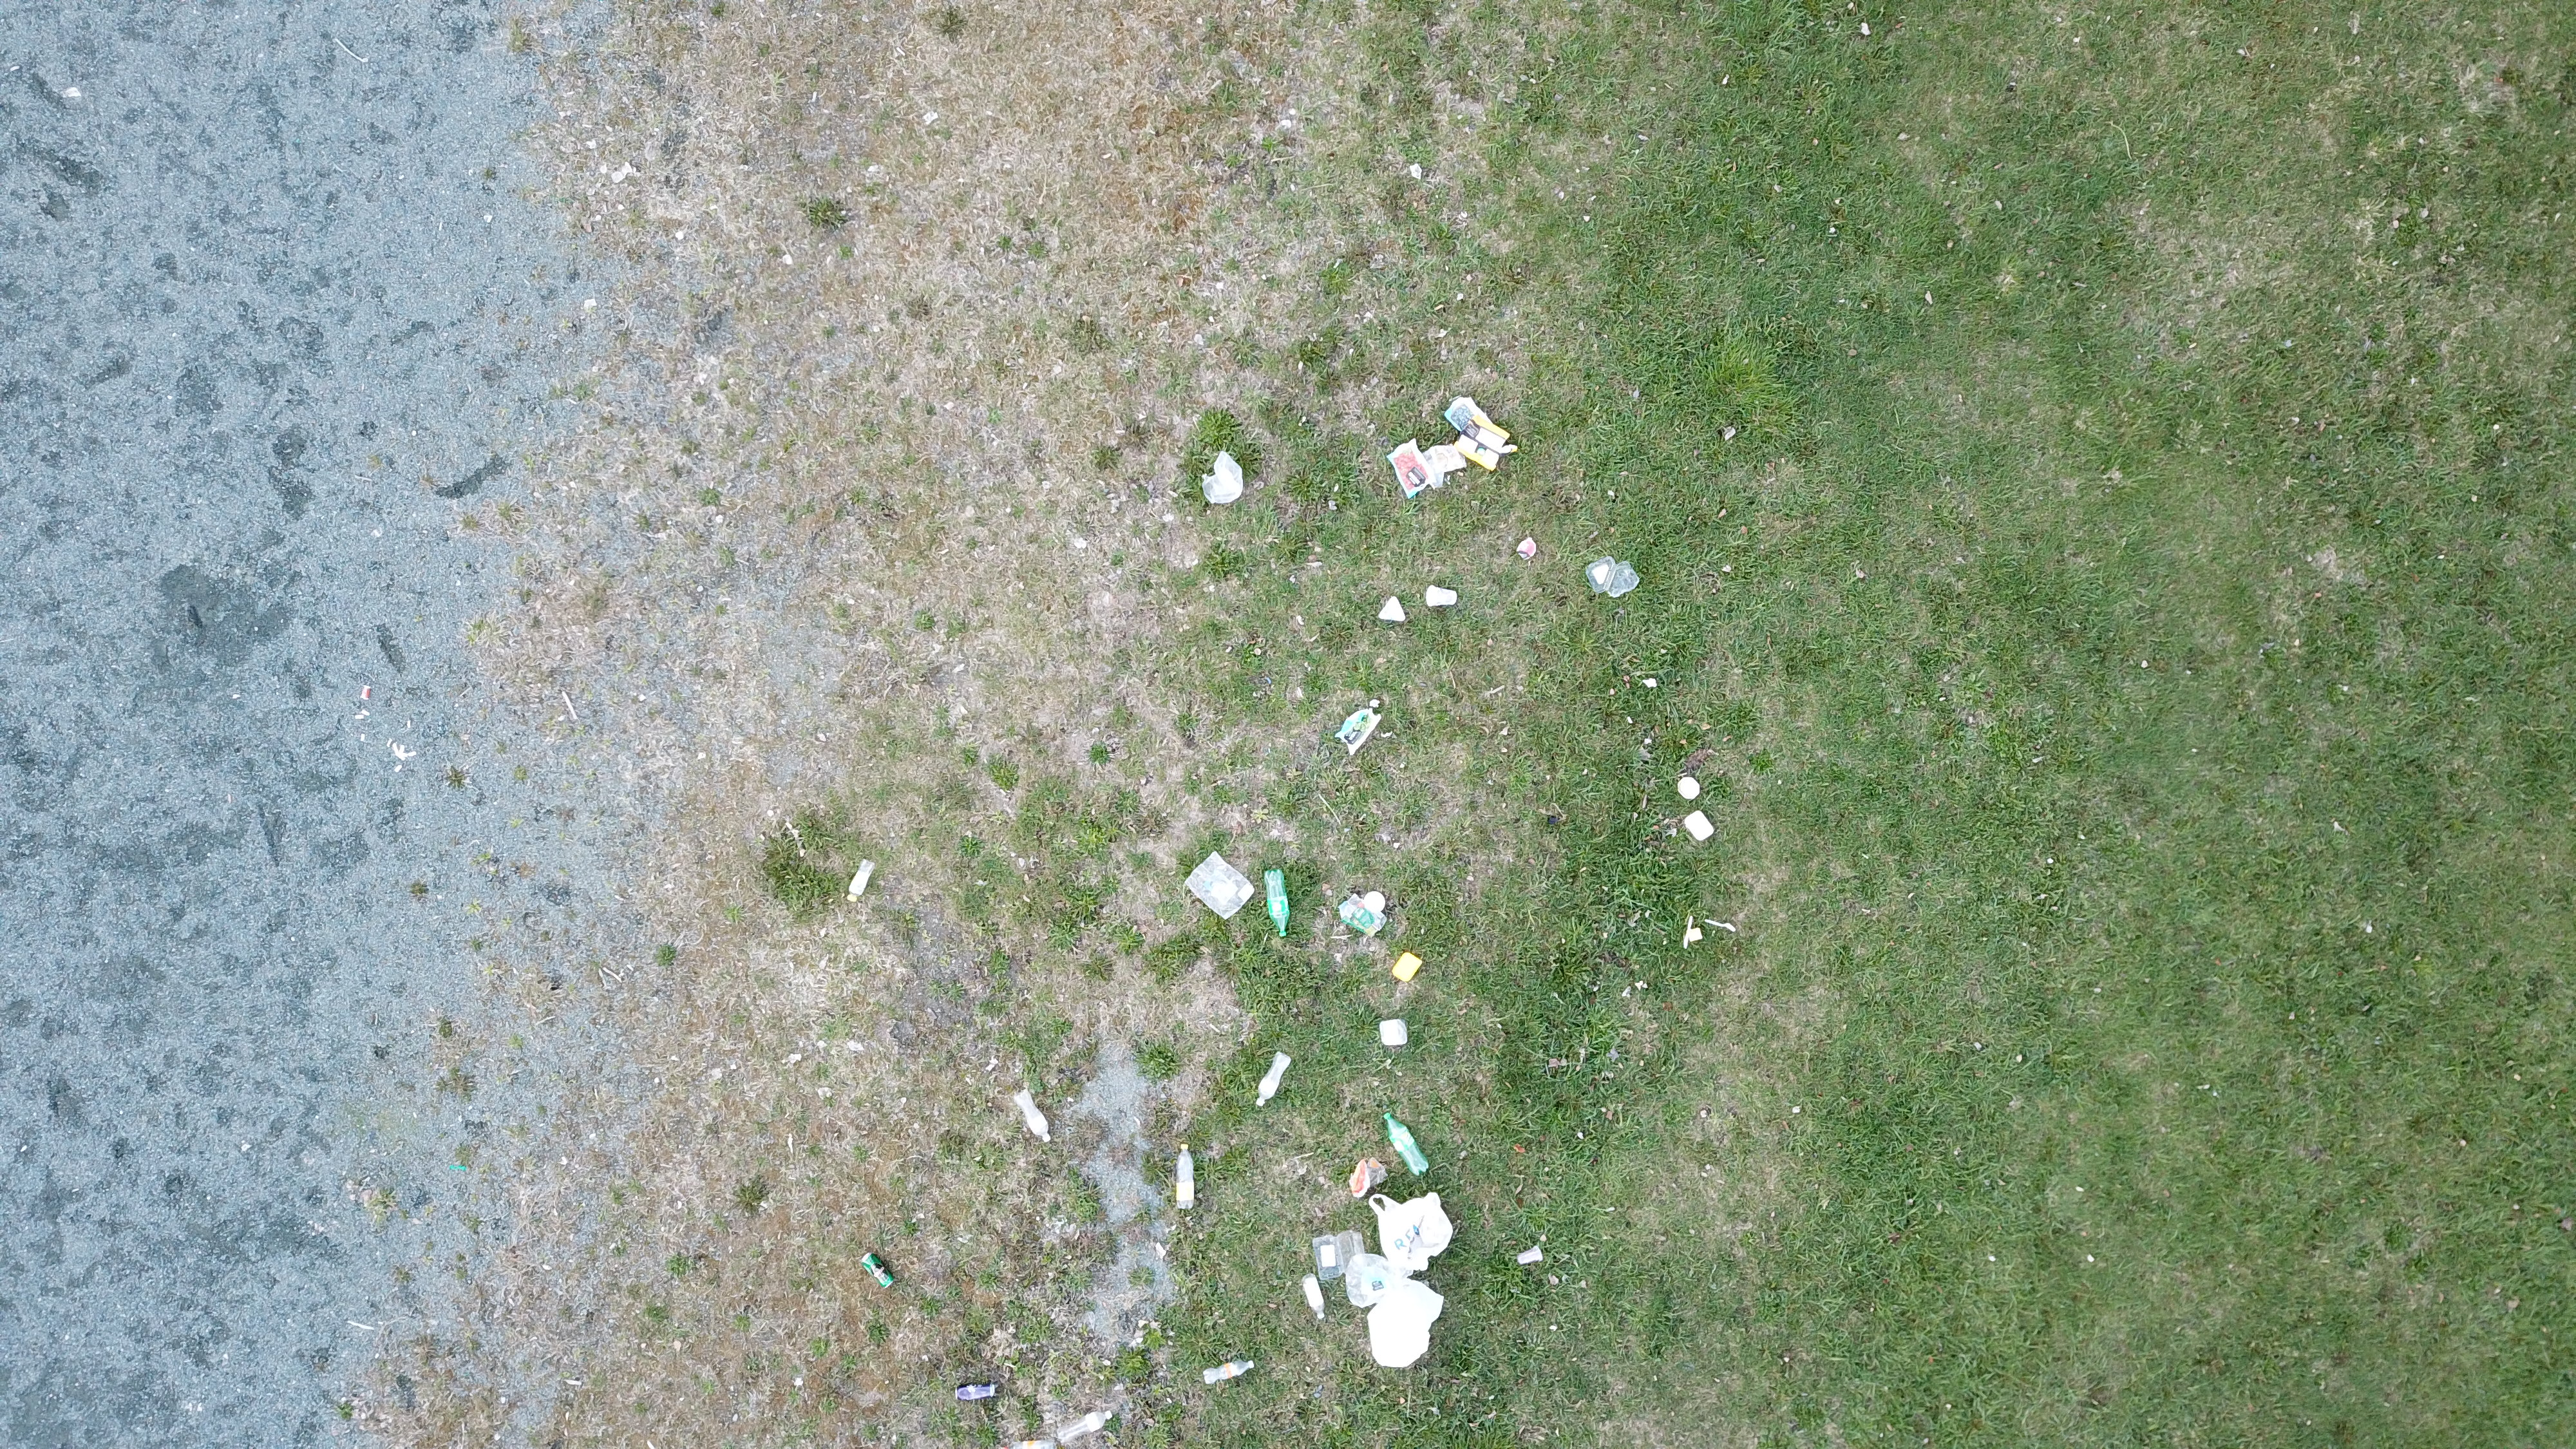Can: (860, 1253, 895, 1292), (950, 1382, 1000, 1405)
Plastic: (1371, 1191, 1456, 1272), (1369, 1283, 1447, 1368), (1189, 851, 1256, 922), (1458, 416, 1518, 471), (1345, 1253, 1399, 1311), (1315, 1228, 1368, 1283), (1387, 439, 1435, 499), (1336, 706, 1385, 755), (1583, 557, 1640, 600), (1200, 453, 1246, 504), (1421, 444, 1468, 490), (1338, 893, 1385, 939), (1444, 396, 1495, 432), (1350, 1159, 1389, 1200), (1681, 810, 1716, 844), (1392, 950, 1426, 982), (1376, 1017, 1408, 1047), (1376, 596, 1408, 623), (1426, 584, 1460, 609), (1674, 777, 1704, 801), (1702, 916, 1741, 934), (1516, 538, 1543, 561), (1518, 1246, 1545, 1267), (1681, 915, 1695, 950), (1688, 929, 1704, 943), (363, 685, 373, 701)
PlasticBottle: (1380, 1109, 1430, 1178), (1261, 867, 1293, 938), (1254, 1049, 1290, 1109), (1014, 1090, 1053, 1143), (1056, 1408, 1116, 1440), (1173, 1141, 1198, 1212), (1201, 1359, 1258, 1387), (847, 856, 878, 908), (1302, 1274, 1329, 1323), (1017, 1438, 1065, 1449)
